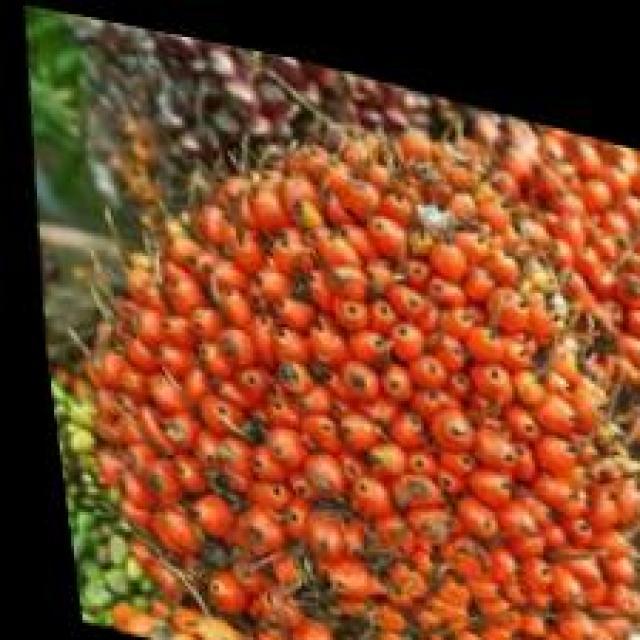Ripefruit: (25, 28, 640, 639)
